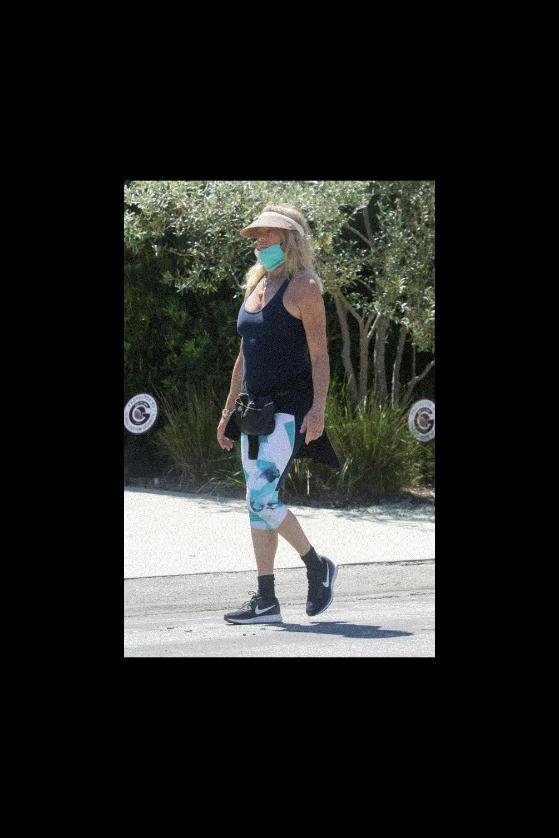mask_weared_incorrect: (253, 229, 281, 260)
